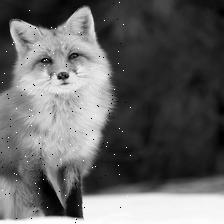fox: (1, 0, 131, 224)
